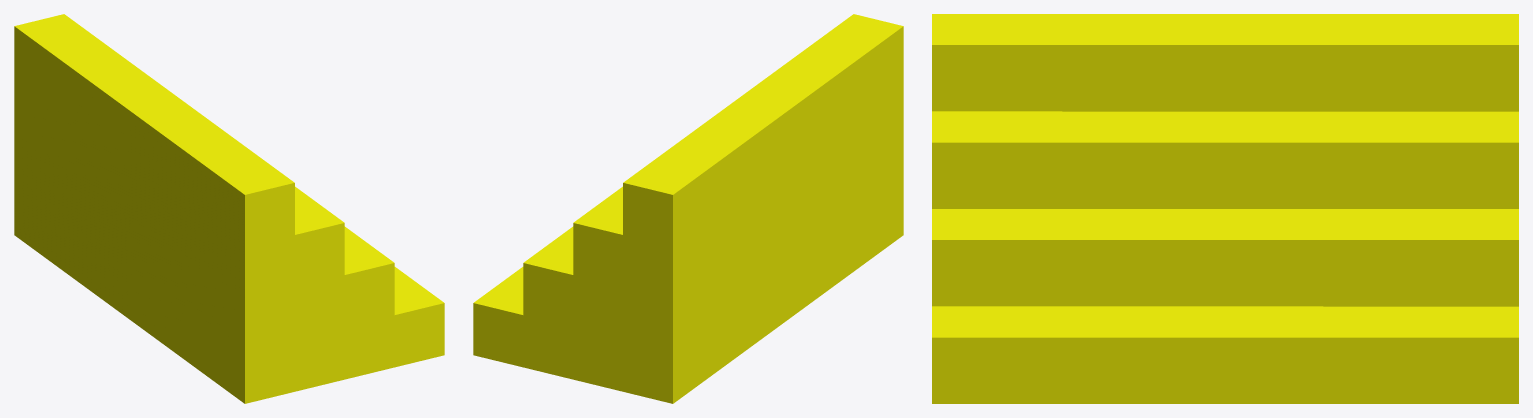
File: kaykit-primitive-stairs-half.glb
3 views of the same model, side by side, from view 1: azimuth 30°, elevation 25°; view 2: azimuth 150°, elevation 25°; view 3: azimuth 270°, elevation 25° (orthographic). The views are drawn at different scales.
Parts seen in each view (by area): view 1: Primitive_Stairs_Half; view 2: Primitive_Stairs_Half; view 3: Primitive_Stairs_Half.
Boxes of the visible parts, bbox=[...] form: Primitive_Stairs_Half: bbox=[14, 14, 444, 403]; Primitive_Stairs_Half: bbox=[473, 14, 903, 403]; Primitive_Stairs_Half: bbox=[932, 14, 1518, 403].
Size of the model in its own units: 2 by 2 by 4.
